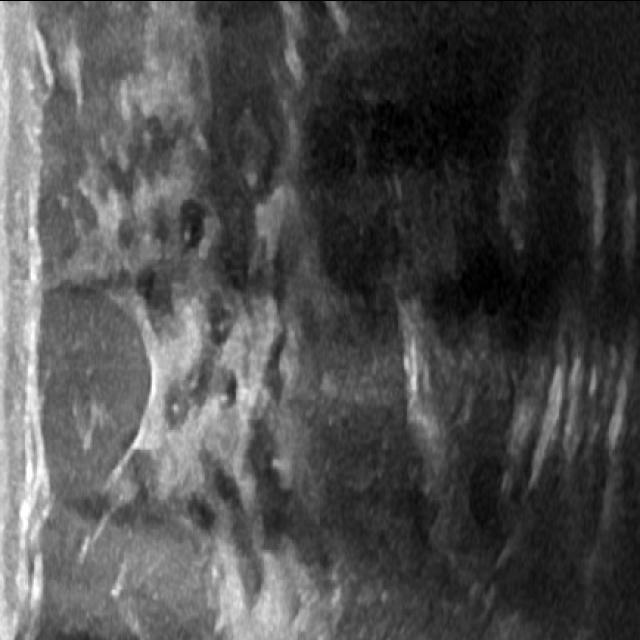Benign: (32, 287, 148, 464)
